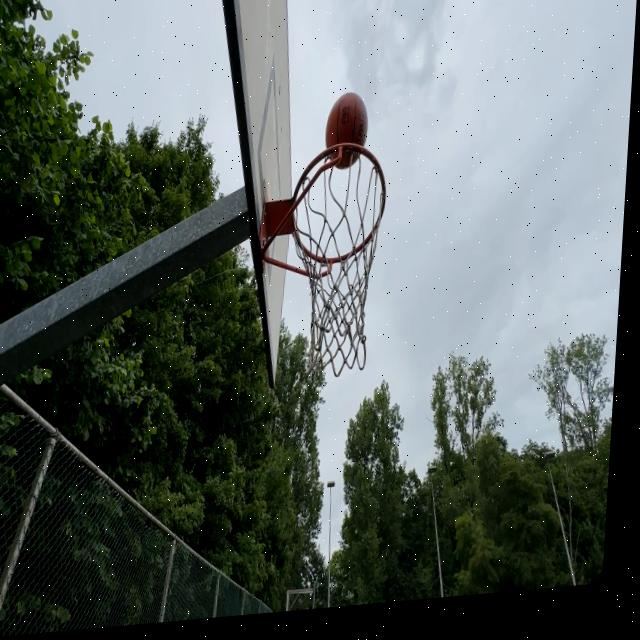Basketball: (323, 91, 370, 170)
